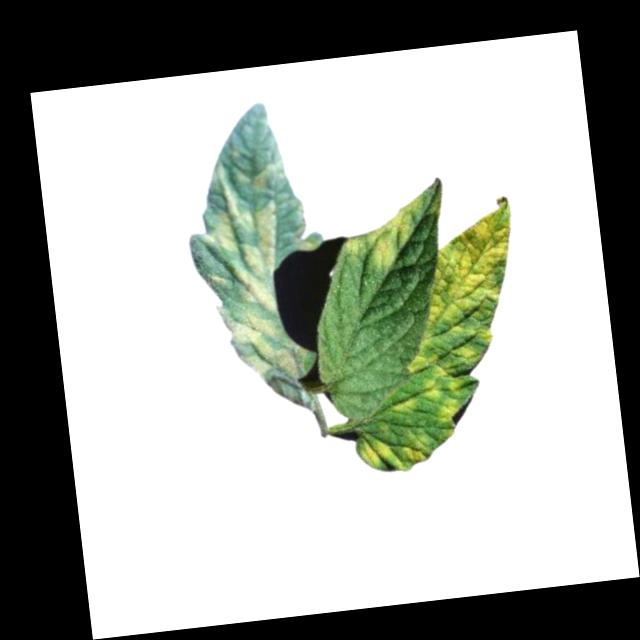Leaf_Mold: (180, 155, 309, 413), (415, 204, 527, 326), (341, 191, 430, 273), (406, 349, 459, 404), (450, 320, 498, 361), (353, 430, 394, 473), (399, 424, 437, 467), (439, 397, 469, 428)
